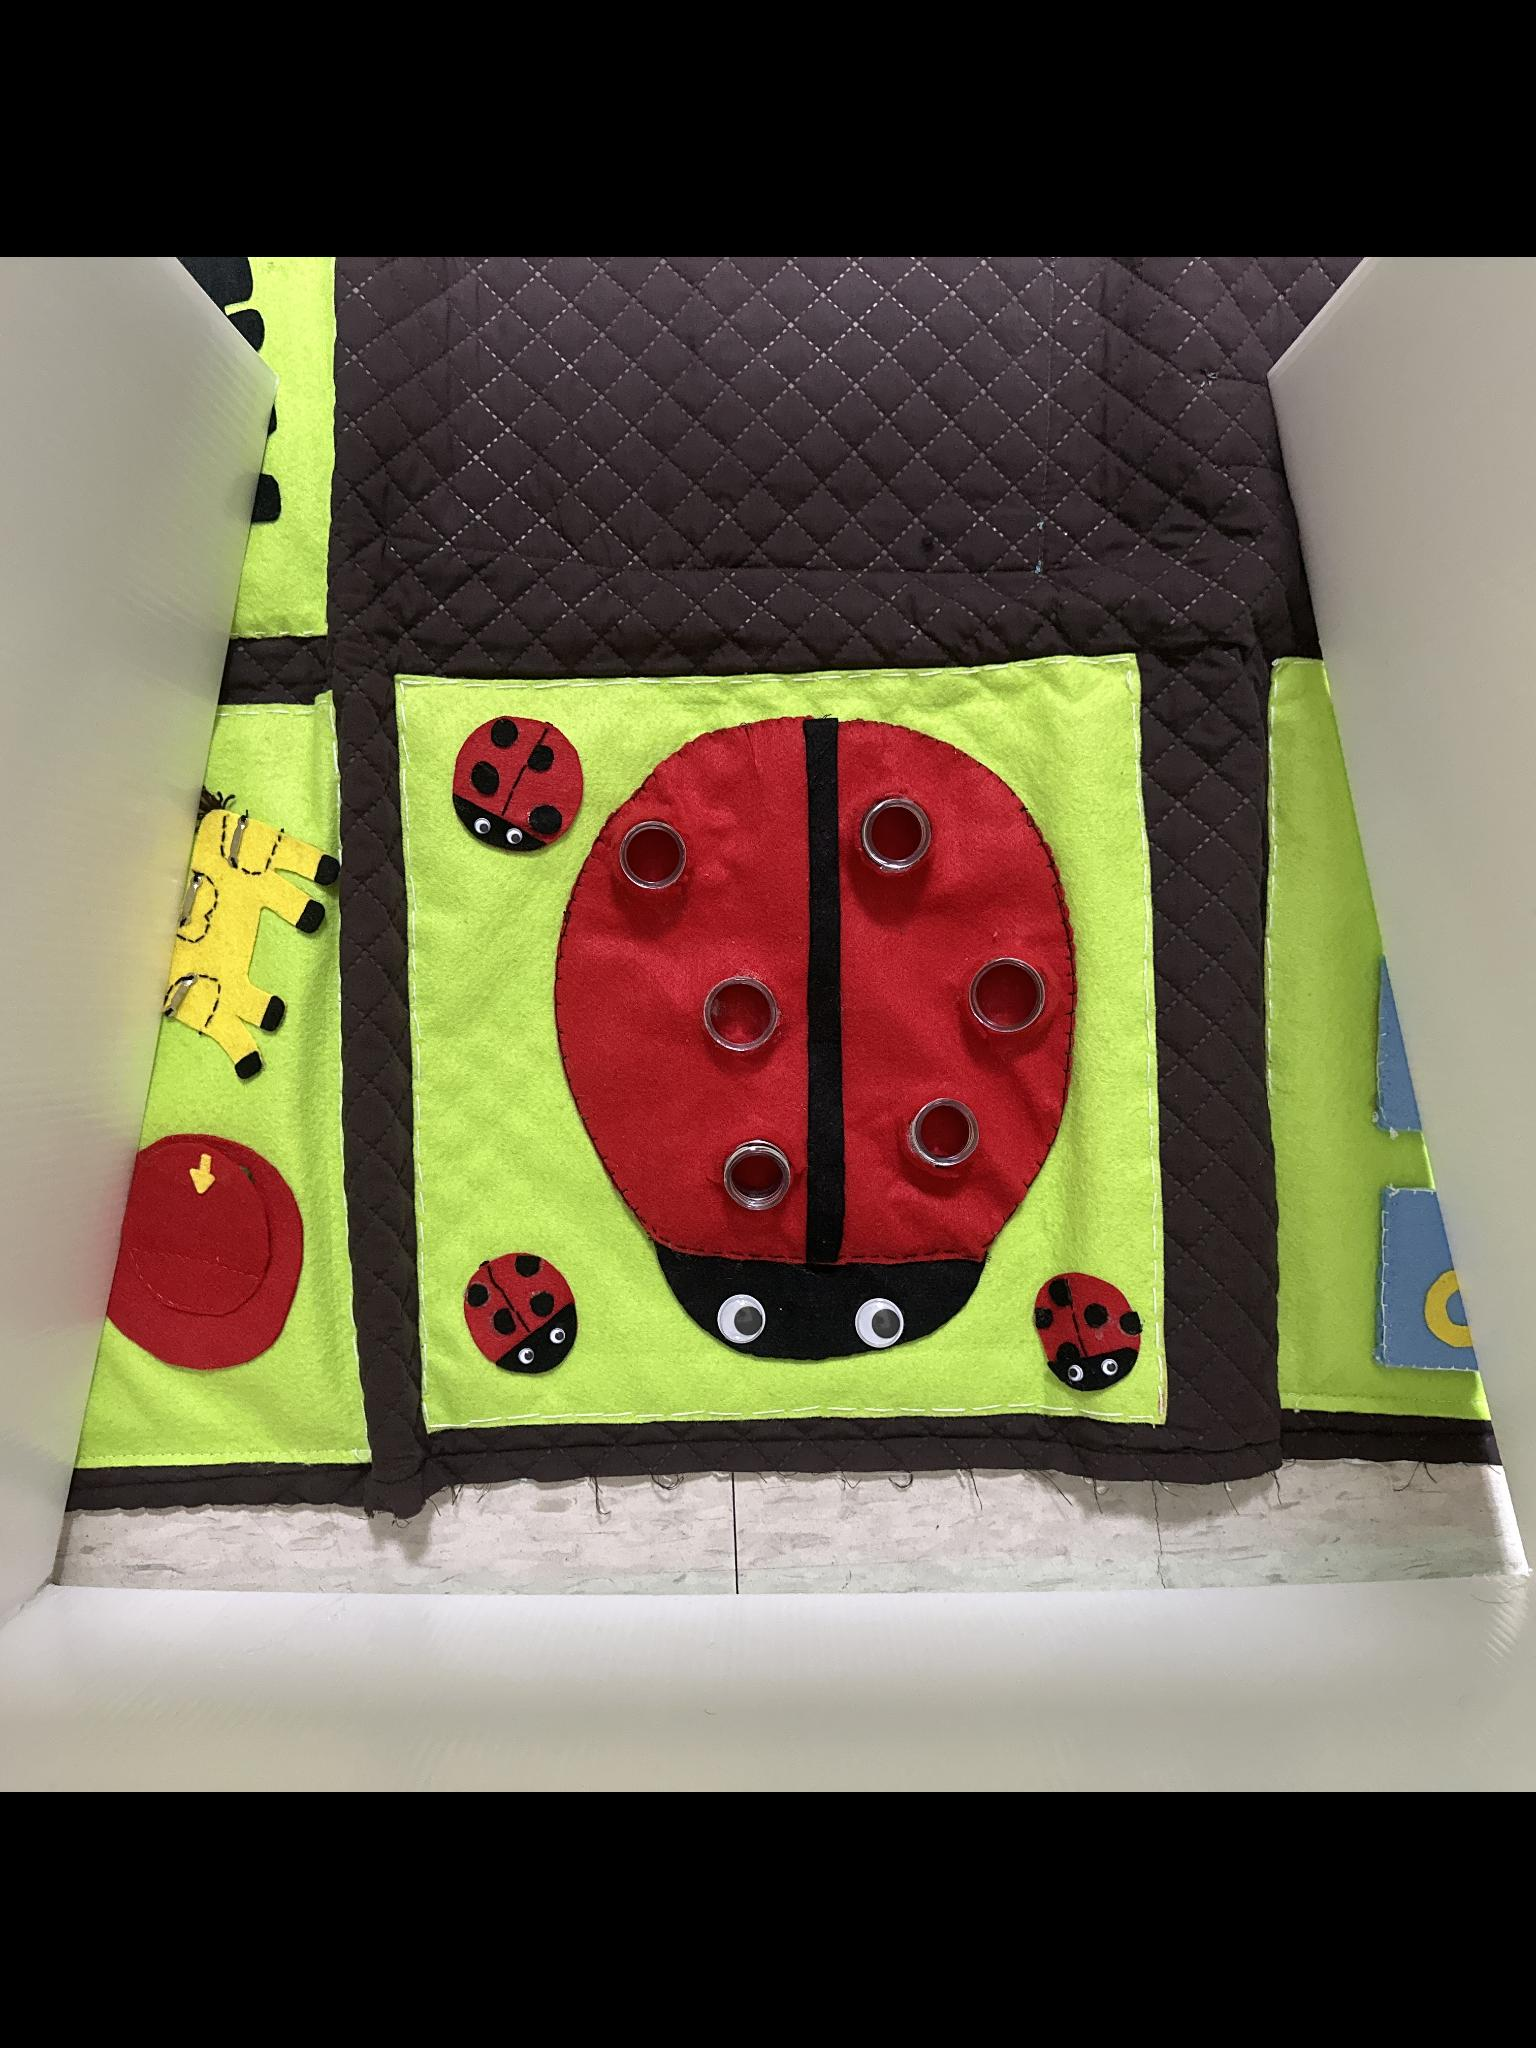hole: (689, 961, 781, 1066), (842, 785, 931, 877), (955, 951, 1046, 1040), (603, 801, 692, 892), (904, 1095, 984, 1168), (721, 1135, 789, 1208)
ladybug_case: (549, 713, 1070, 1350)
